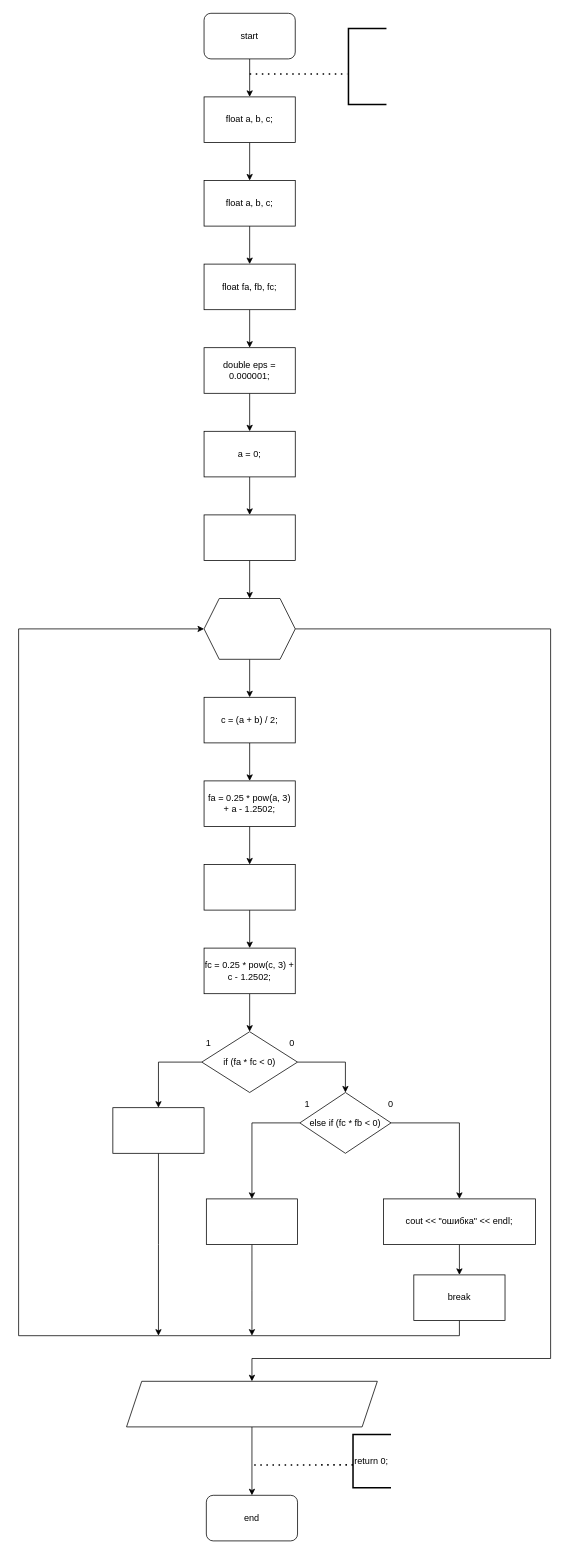
This 570x1554 diagram has some shape labels left out. The centre of each missing label's shape, as x and y in pixels:
#include <iostream> #include <cmath> using namespace std; int main (): [367,66]
a = c;: [252,1221]
b = 2;: [249,537]
b = c;: [158,1130]
cout << "Корни: " << a << "; " << b << endl;: [251,1404]
fb = 0.25 * pow(b, 3) + b - 1.2502;: [249,887]
while (b - a > eps): [249,628]
